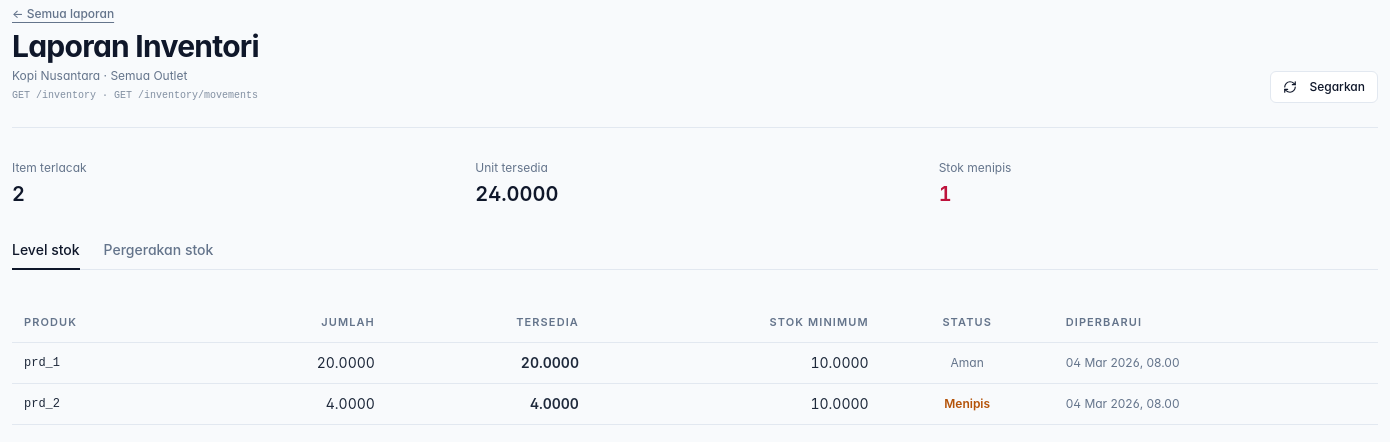
Test: Phase 7 — Reports workspace › inventory report › switches to the movements tab fed by /inventory/movements
Check: the text "prd_1" is shown, box 12,342 -> 193,384
Click the tab "Pergerakan stok" at coordinates (158, 255), box 104,240 -> 213,270
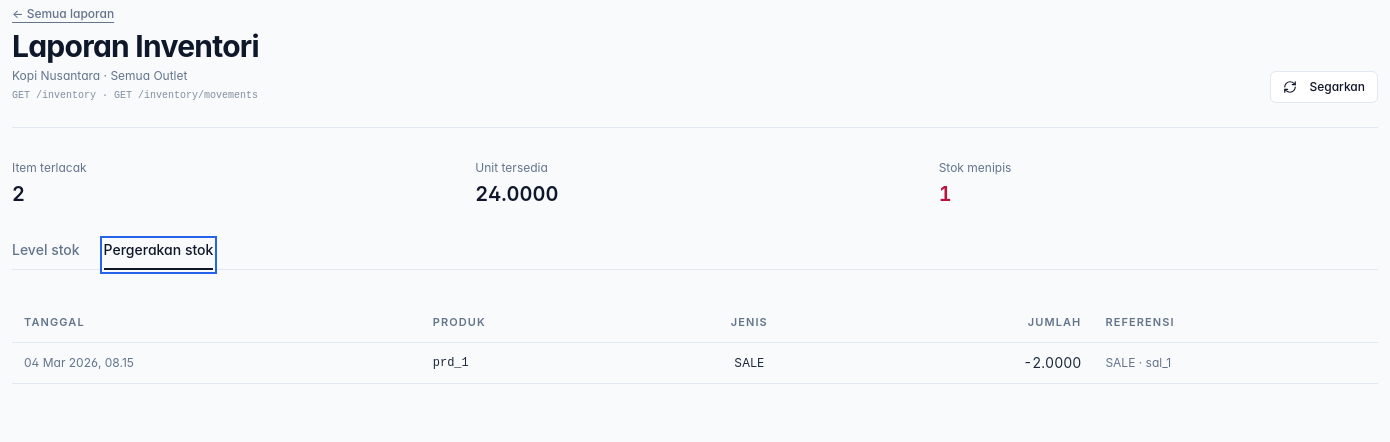
Check: the text "SALE" is shown, box 656,342 -> 842,384
Check: the text "SALE · sal_1" is shown, box 1093,342 -> 1378,384
